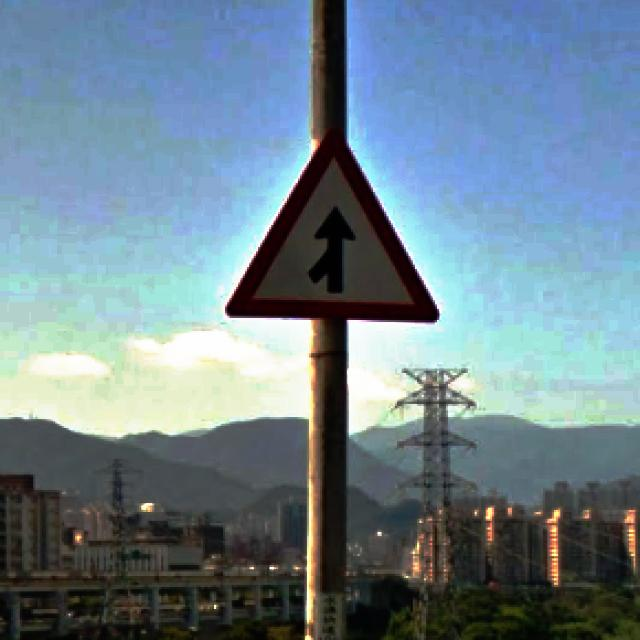leftmerge: (225, 126, 439, 324)
